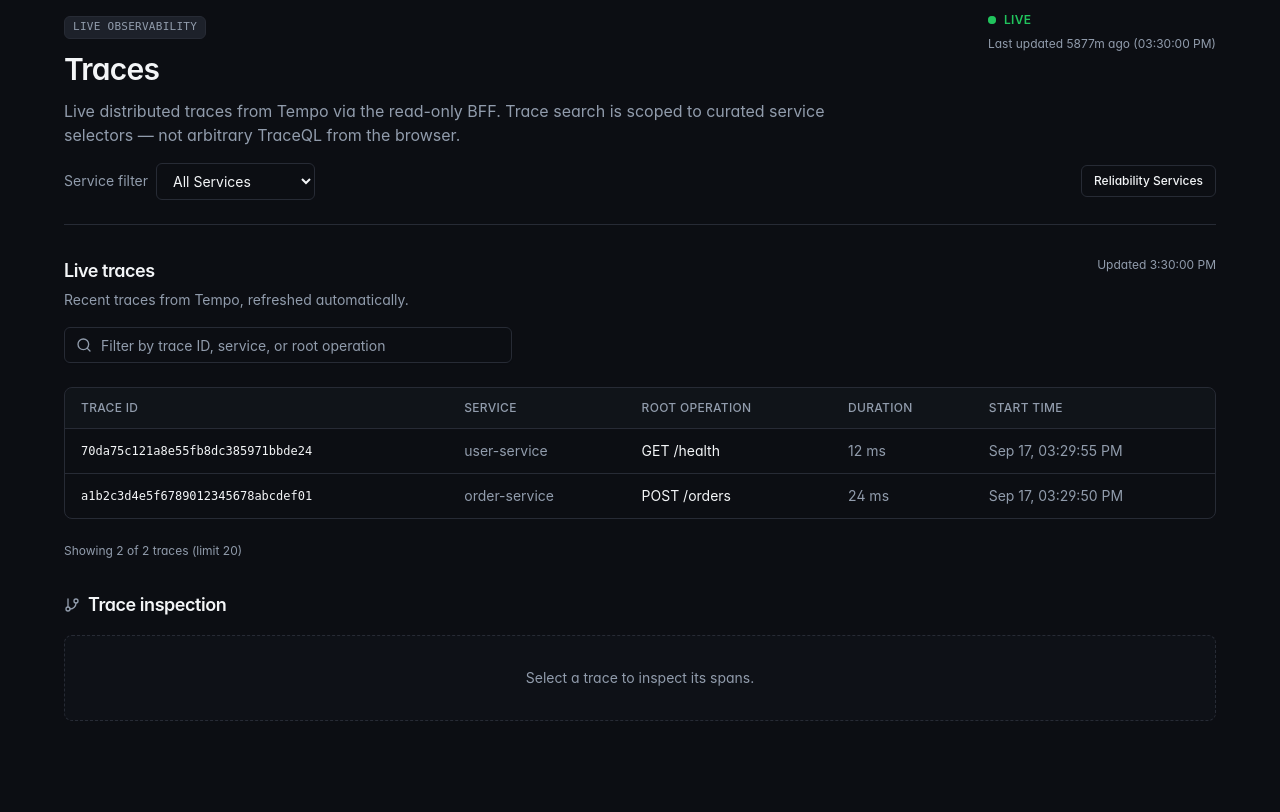
Scenario: TracesPage › loads and renders trace detail when a trace is selected
Expected: the text "GET /health" is shown, [626,429,832,474]
Click the text "70da75c121a8e55fb8dc385971bbde24": (257, 451) [65,429,448,474]
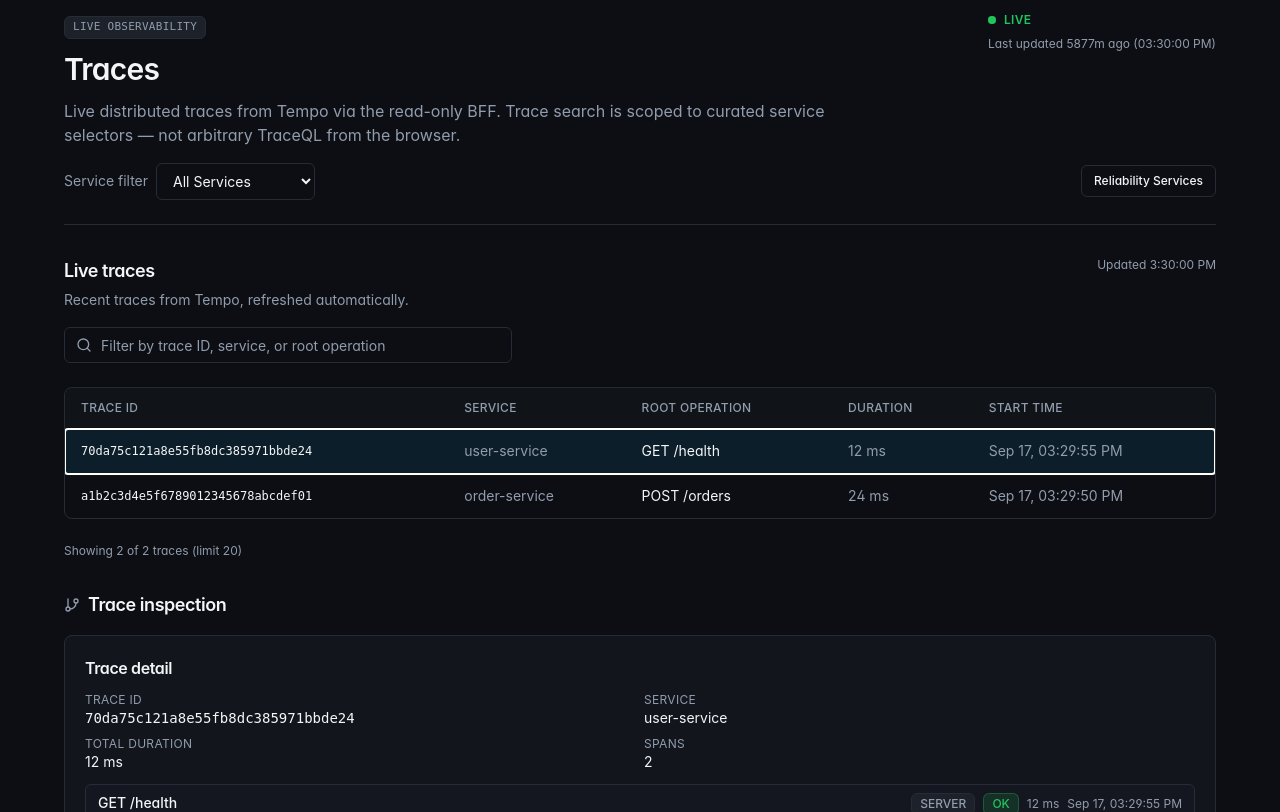
Expected: the text "GET /health" is shown, [626,429,832,474]
Result: the heading "Trace detail" is shown at [85,658,172,678]
